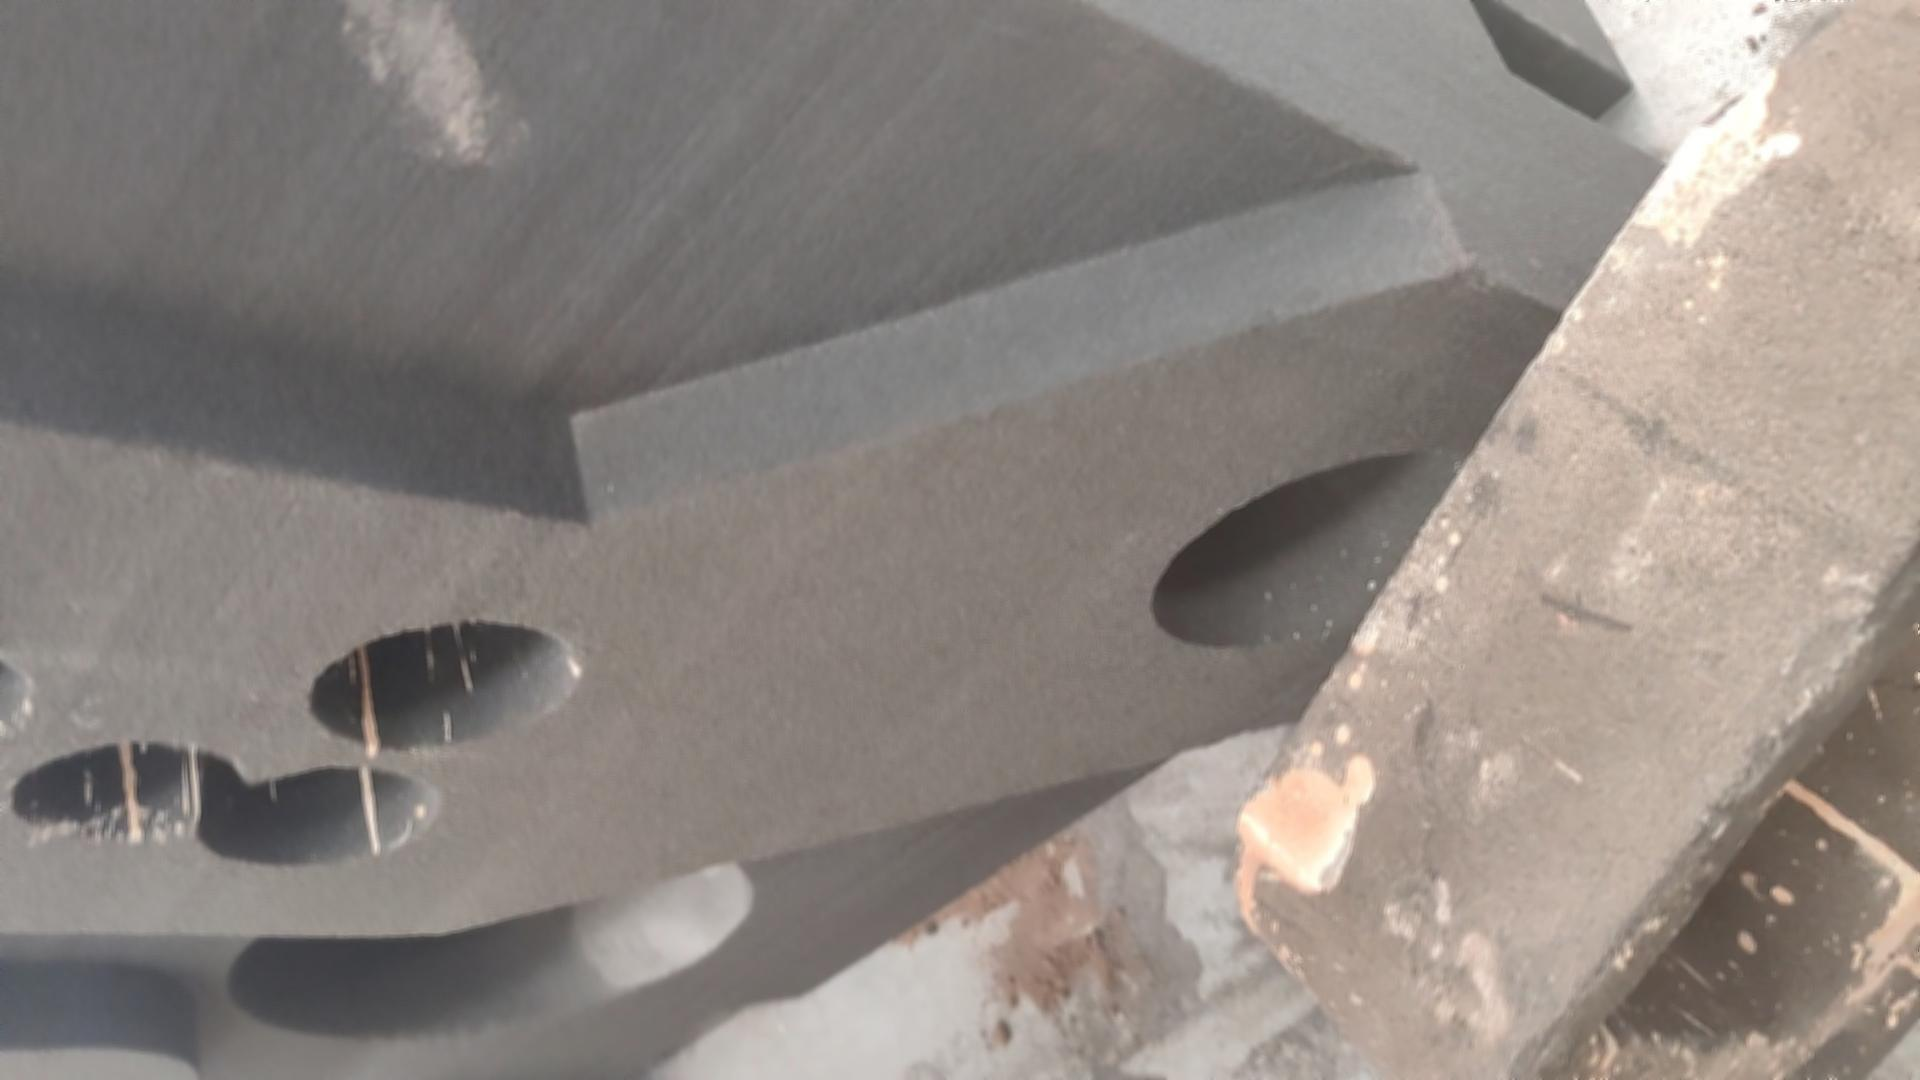pouring hole: (1151, 452, 1474, 649)
